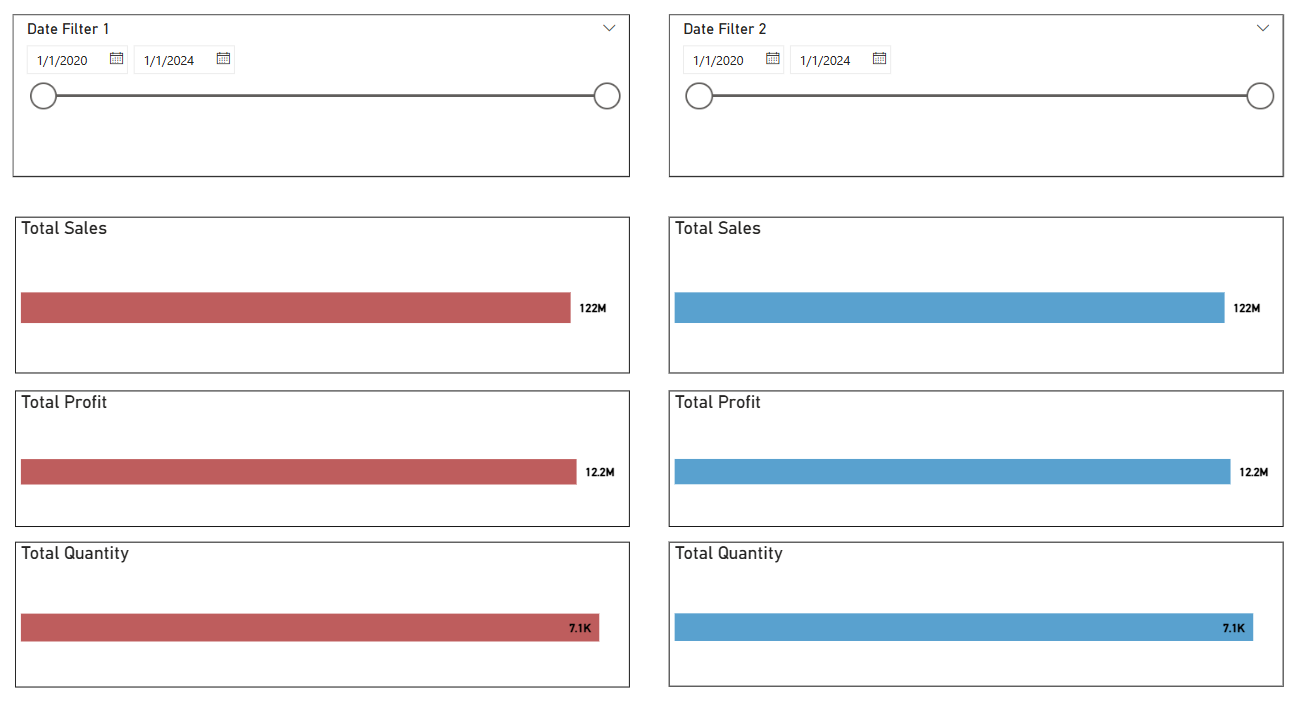

What the dashboard file says about the page in this screenshot:
{"tool":"powerbi","page":{"name":"Edit Interactions","canvas":[1280,720],"ordinal":5},"visuals":[{"type":"slicer","fields":{"Values":["Fact Table.Date (dd/mm/yyyy)"]},"box":[16.6,20.2,586.6,154.4],"z":0},{"type":"slicer","fields":{"Values":["Fact Table.Date (dd/mm/yyyy)"]},"box":[640,20.2,584.2,154.4],"z":1000},{"type":"barChart","title":"Total Sales","fields":{"Y":["Sum(Fact Table.Net Sales)"]},"box":[18.7,212.1,584,148.5],"z":2000},{"type":"barChart","title":"Total Profit","fields":{"Y":["Sum(Fact Table.Profit)"]},"box":[18.7,378.1,584,129.8],"z":3000},{"type":"barChart","title":"Total Quantity","fields":{"Y":["Sum(Fact Table.Units Sold)"]},"box":[18.7,521.6,584,138.5],"z":4000},{"type":"barChart","title":"Total Sales","fields":{"Y":["Sum(Fact Table.Net Sales)"]},"box":[640,212.5,584.2,148.4],"z":5000},{"type":"barChart","title":"Total Profit","fields":{"Y":["Sum(Fact Table.Profit)"]},"box":[640,377.6,584.2,129.4],"z":6000},{"type":"barChart","title":"Total Quantity","fields":{"Y":["Sum(Fact Table.Units Sold)"]},"box":[640,521.2,584.2,137.7],"z":7000}]}

Visuals, with their boxes on the page's 1280x720 design canvas (x1, y1, x2, y2). These are canvas units, not pixel positions in the 1307x713 screenshot, which may show the page scaled, cropped or inside an application window:
slicer - Fact Table.Date (dd/mm/yyyy): 17 20 603 175
slicer - Fact Table.Date (dd/mm/yyyy): 640 20 1224 175
"Total Sales" barChart: 19 212 603 361
"Total Profit" barChart: 19 378 603 508
"Total Quantity" barChart: 19 522 603 660
"Total Sales" barChart: 640 212 1224 361
"Total Profit" barChart: 640 378 1224 507
"Total Quantity" barChart: 640 521 1224 659
